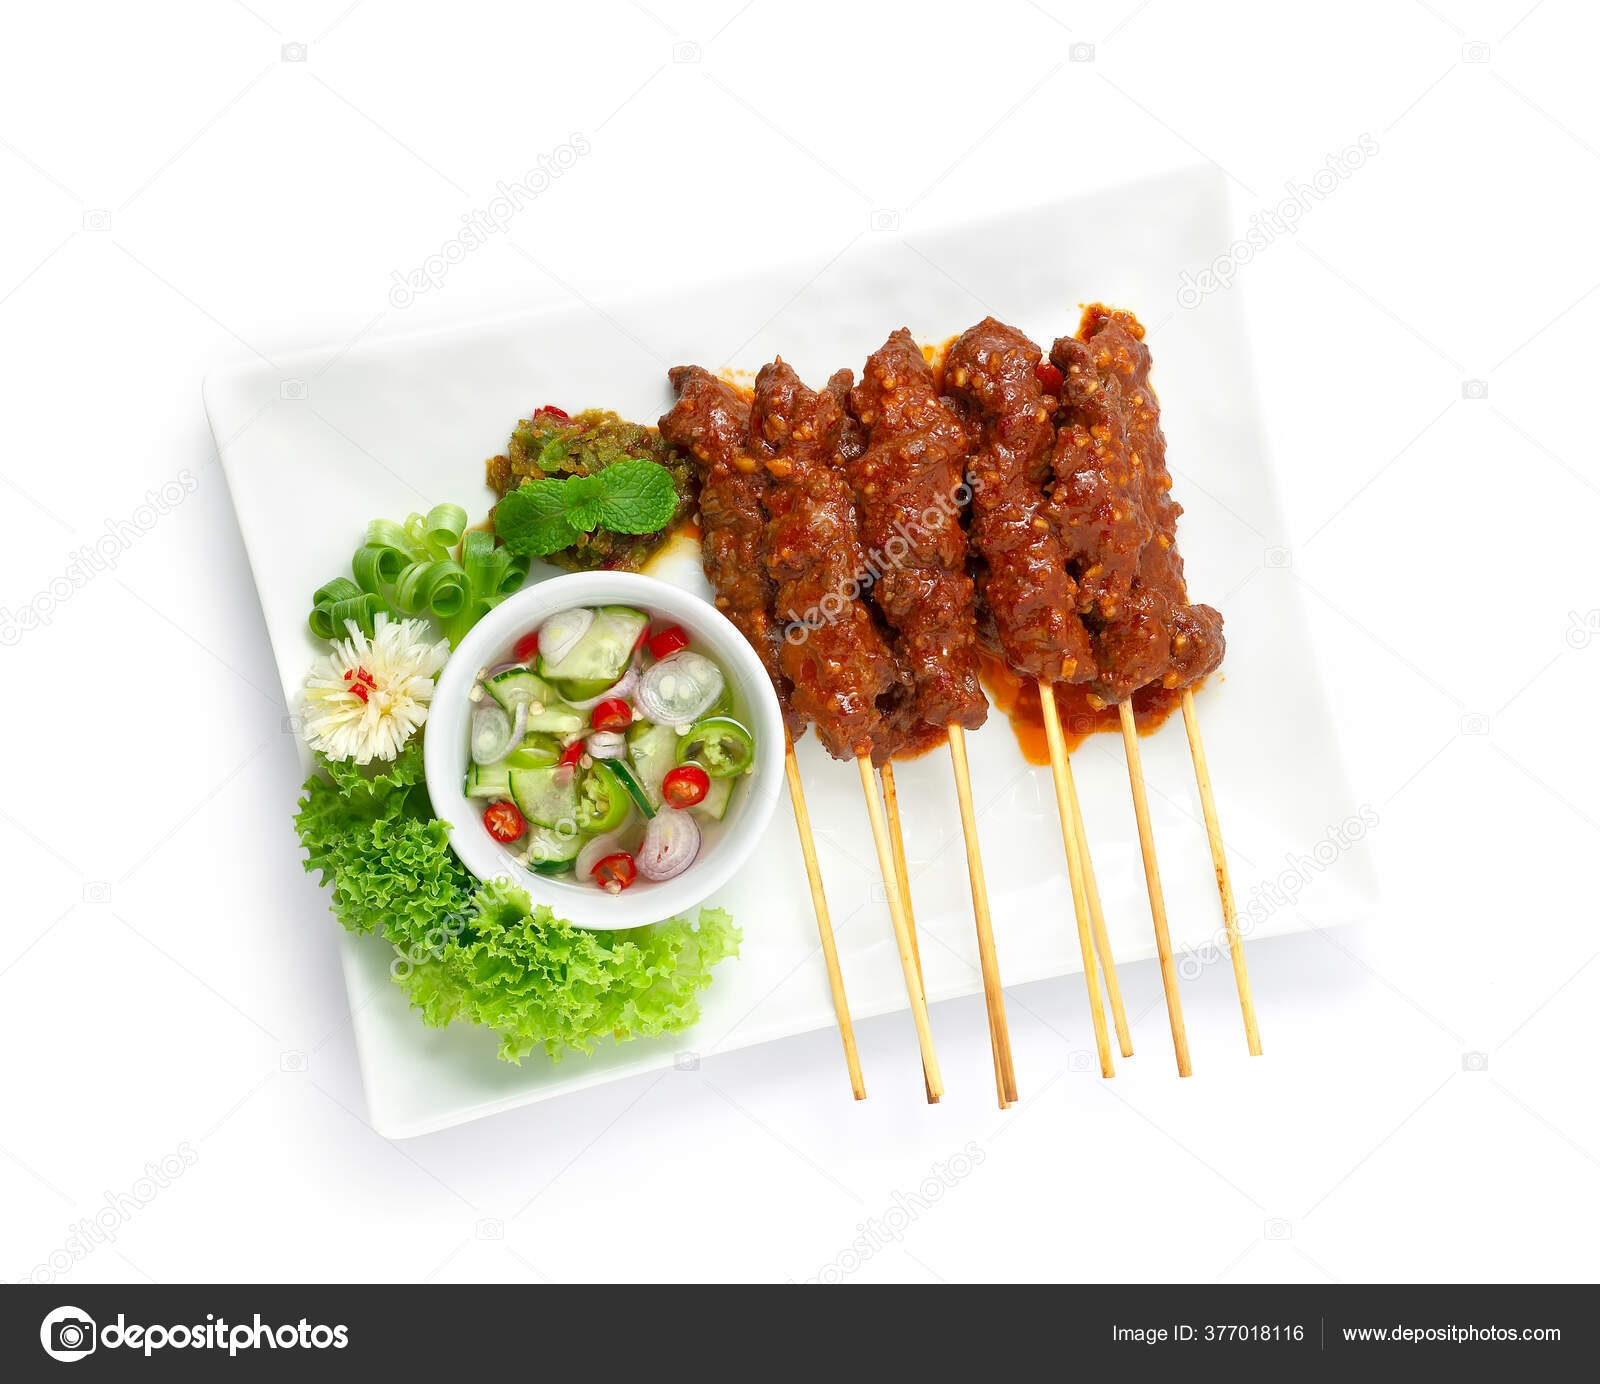sate: (810, 295, 1271, 1119)
